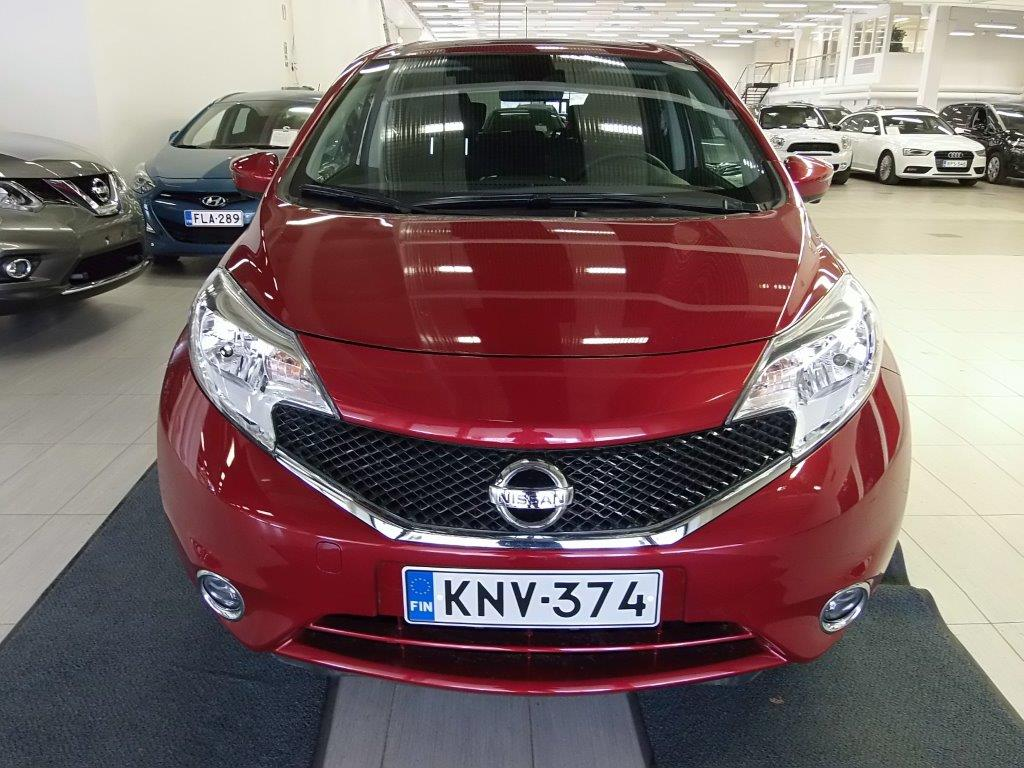license: (398, 564, 661, 628)
